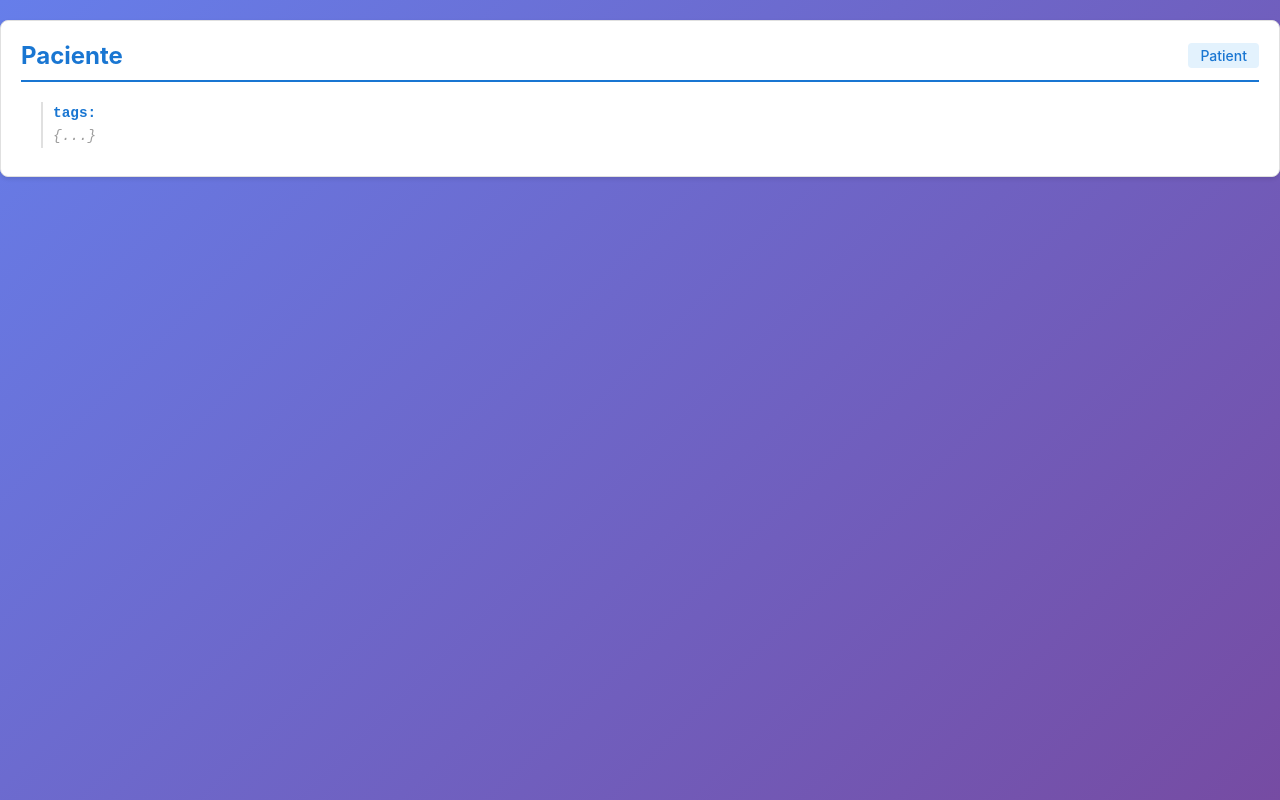
Test: FhirResourceViewer › renders array values after expanding collapsed key
Click the text with class "fhir-collapsed": [75, 136] box left=53, top=128, right=96, bottom=144
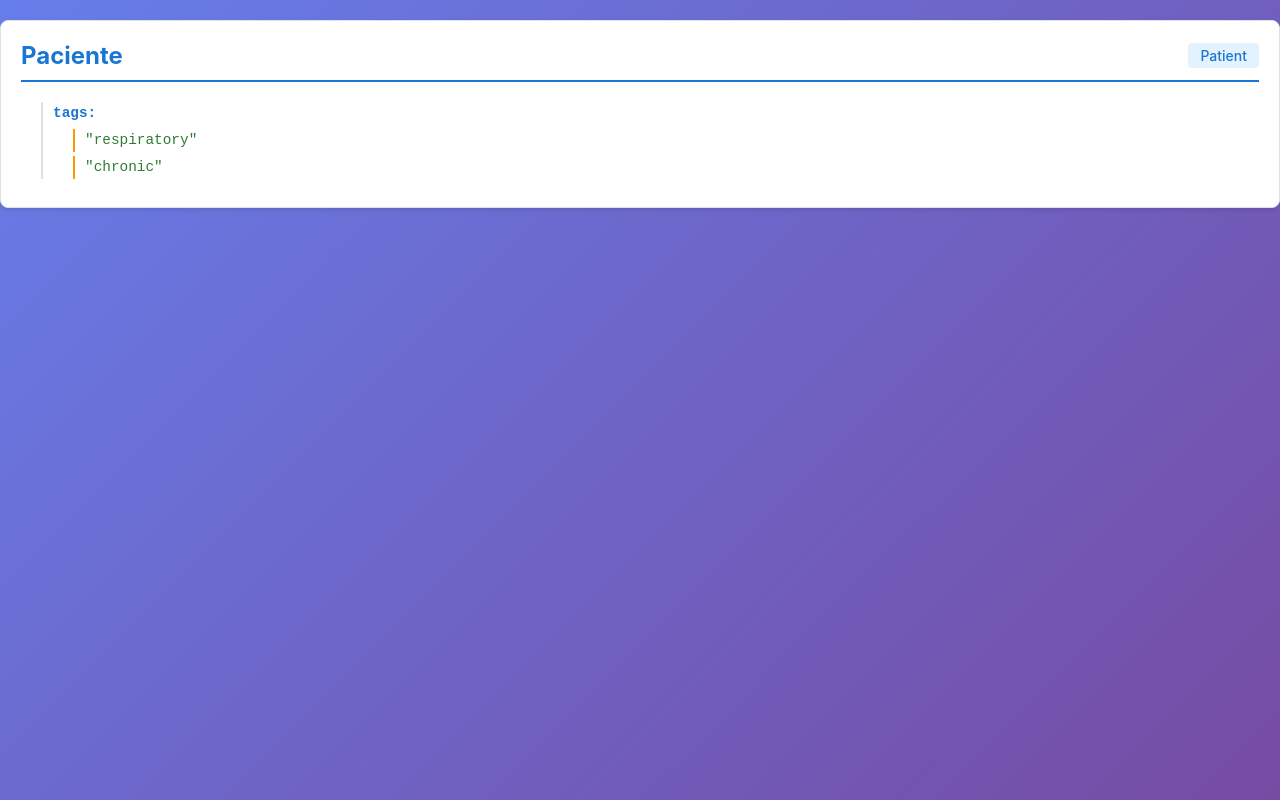
Result: the element with class "fhir-array" is shown at left=73, top=129, right=1259, bottom=179
